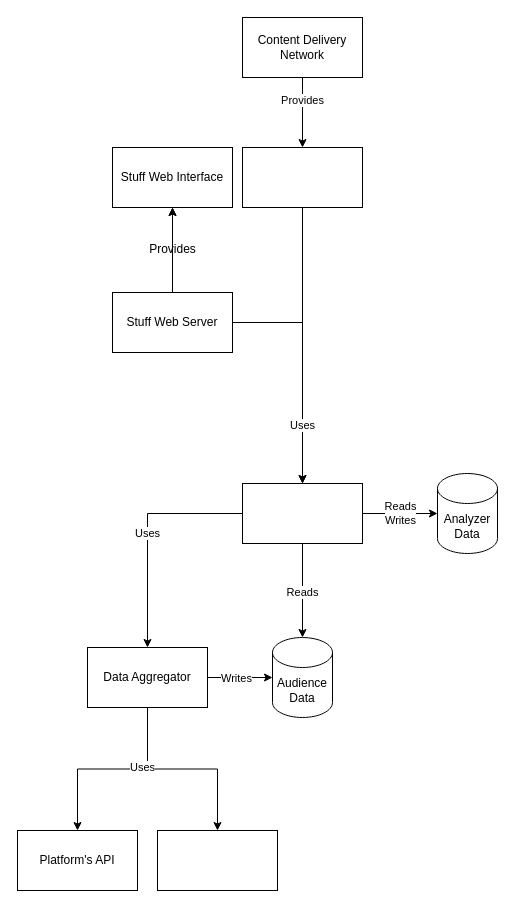
The diagram is 515 pixels wide and 908 high, and some of its shapes have lost their labels. The centre of each missing label's shape, as x and y in pixels:
Analyzer: point 302,513
Platform's Web Interface: point 217,860
User Web Interface: point 302,177
